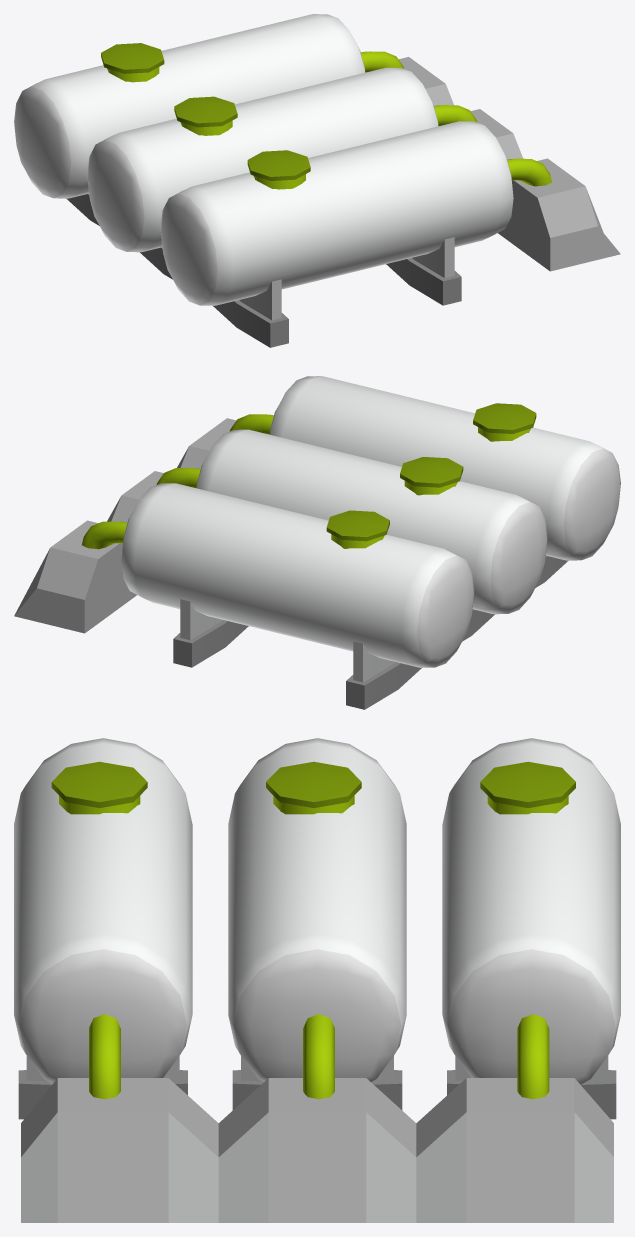
Rendered from reserv.fbx.
The picture shows the model from 3 angles, top to bottom: view 1: azimuth 30°, elevation 25°; view 2: azimuth 150°, elevation 25°; view 3: azimuth 270°, elevation 25°; orthographic projection. The views are drawn at different scales.
Visible parts, largest first — view 1: gas_refining_00.001; view 2: gas_refining_00.001; view 3: gas_refining_00.001.
Part boxes in pixels (x1,y1,x2,y2): gas_refining_00.001: [14, 14, 620, 347]; gas_refining_00.001: [14, 376, 620, 709]; gas_refining_00.001: [14, 738, 620, 1222].
Size of the model in its own units: 47.3 by 20.26 by 54.32.
